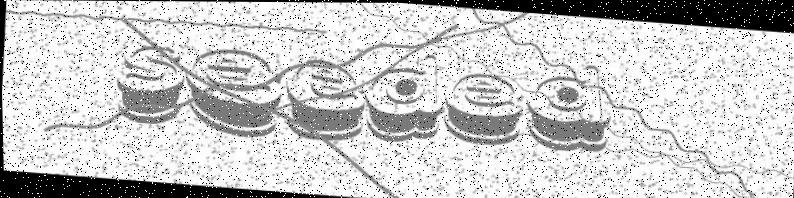d: (518, 60, 626, 157), (356, 46, 448, 146)
e: (276, 48, 374, 147), (183, 46, 285, 139), (433, 68, 527, 150)
s: (109, 40, 188, 128)
